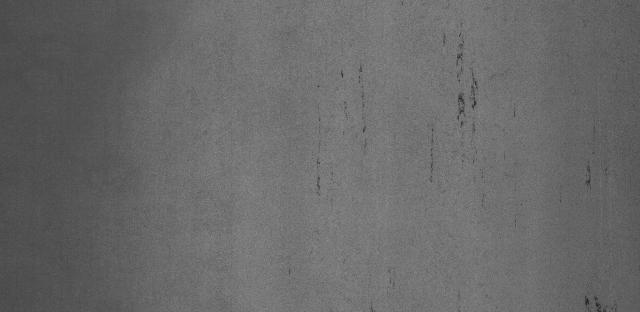inclusion: (310, 56, 376, 195), (576, 129, 611, 198), (577, 289, 610, 310)
oil_spot: (449, 80, 490, 136), (448, 34, 474, 77)
